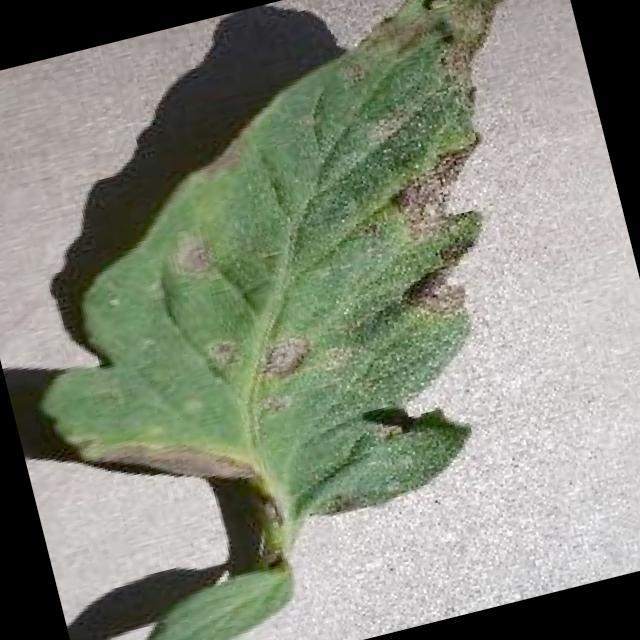Tomato Early blight leaf: (0, 0, 634, 605)
